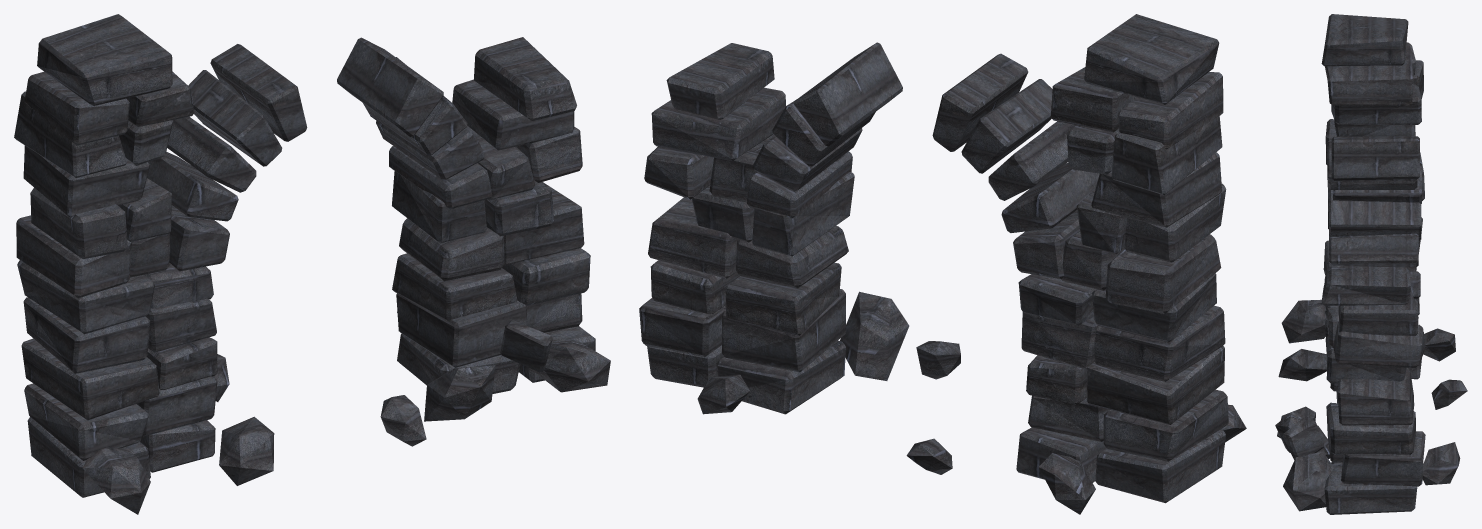
File: ruin_arch_broken_v1_rejected.glb
3 renders of one model, left to right at view 1: azimuth 30°, elevation 25°; view 2: azimuth 150°, elevation 25°; view 3: azimuth 270°, elevation 25°, orthographic. The views are drawn at different scales.
Visible parts, largest first — view 1: ruin_arch_broken; view 2: ruin_arch_broken; view 3: ruin_arch_broken.
Part boxes in pixels (bbox=[...]): ruin_arch_broken: bbox=[14, 14, 610, 514]; ruin_arch_broken: bbox=[639, 14, 1246, 514]; ruin_arch_broken: bbox=[1275, 14, 1467, 514].
Size of the model in its own units: 4 by 3.2 by 1.7.
Materials: 1 (1 with a texture image).
